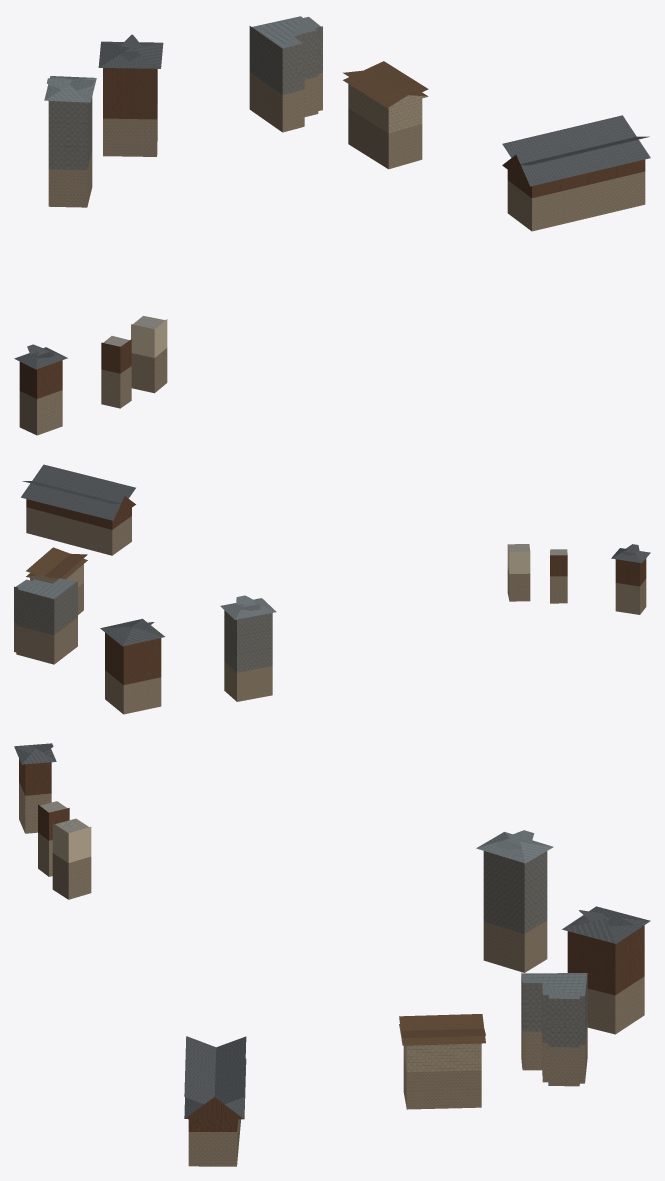
File: bld_c10_19_427.gltf
The picture shows the model from 3 angles, top to bottom: view 1: azimuth 30°, elevation 25°; view 2: azimuth 150°, elevation 25°; view 3: azimuth 270°, elevation 25°; orthographic projection. The views are drawn at different scales.
Visible parts, largest first — view 1: bld_c10_19_427; view 2: bld_c10_19_427; view 3: bld_c10_19_427.
Boxes of the visible parts, x1,y1,x2,y2 form: bld_c10_19_427: (14, 16, 650, 435); bld_c10_19_427: (14, 464, 650, 714); bld_c10_19_427: (14, 743, 650, 1166).
Bounding box in the file's own units: 99.74 × 16.4 × 75.28.
13 materials, 13 textured.
